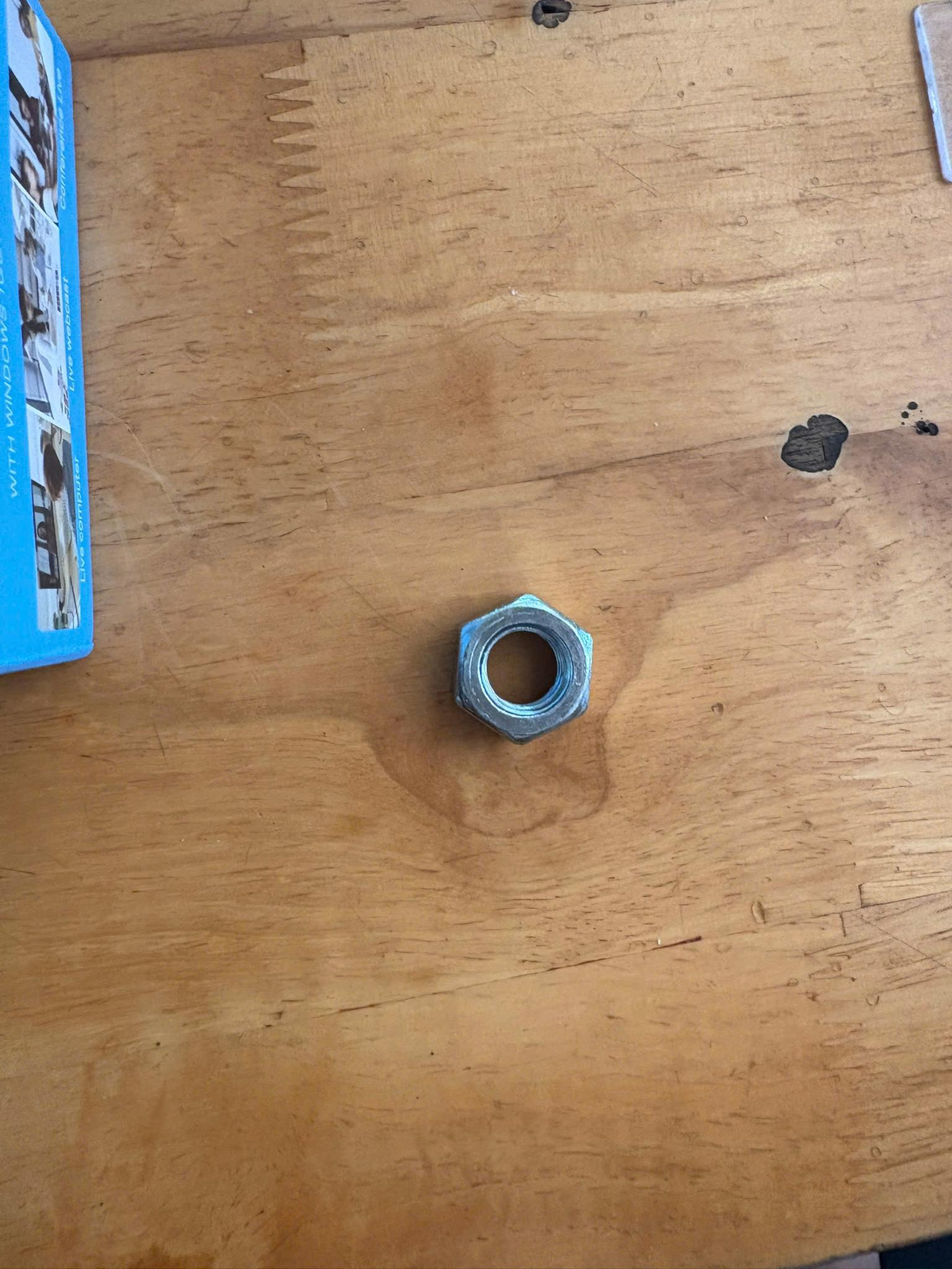nut: (456, 558, 593, 768)
